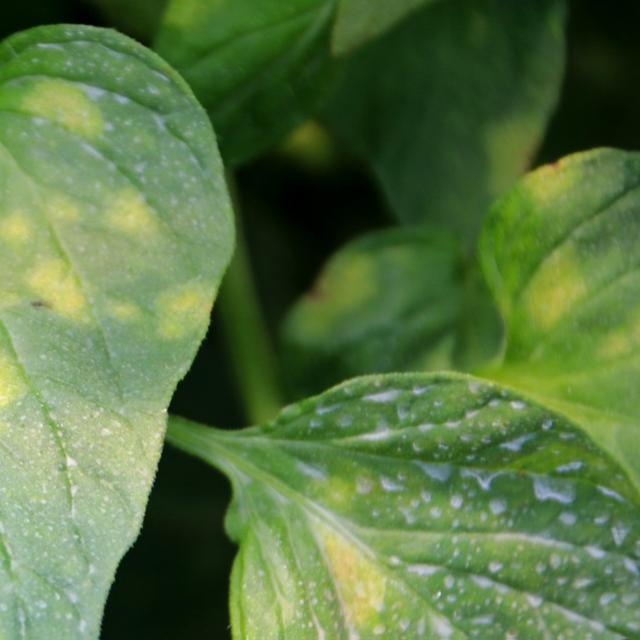Tomato mold leaf: (0, 0, 241, 640)
